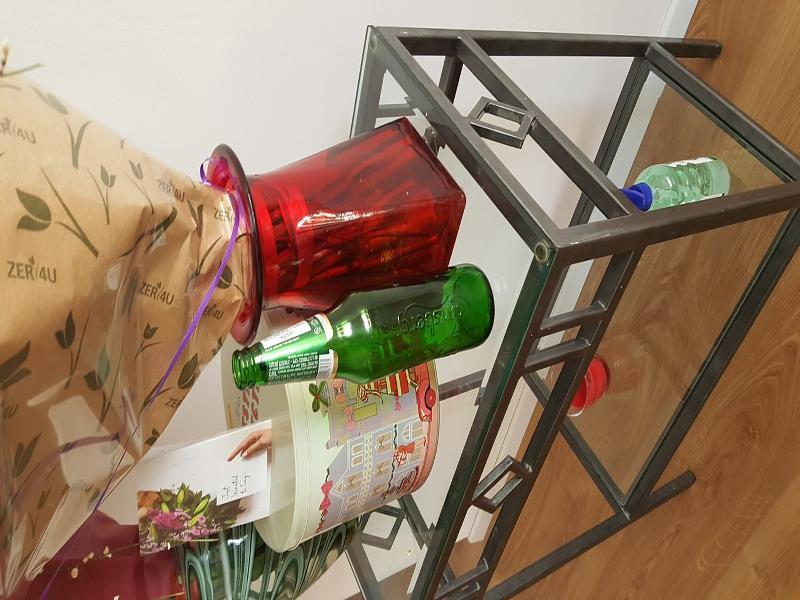Beer: (230, 265, 495, 387)
